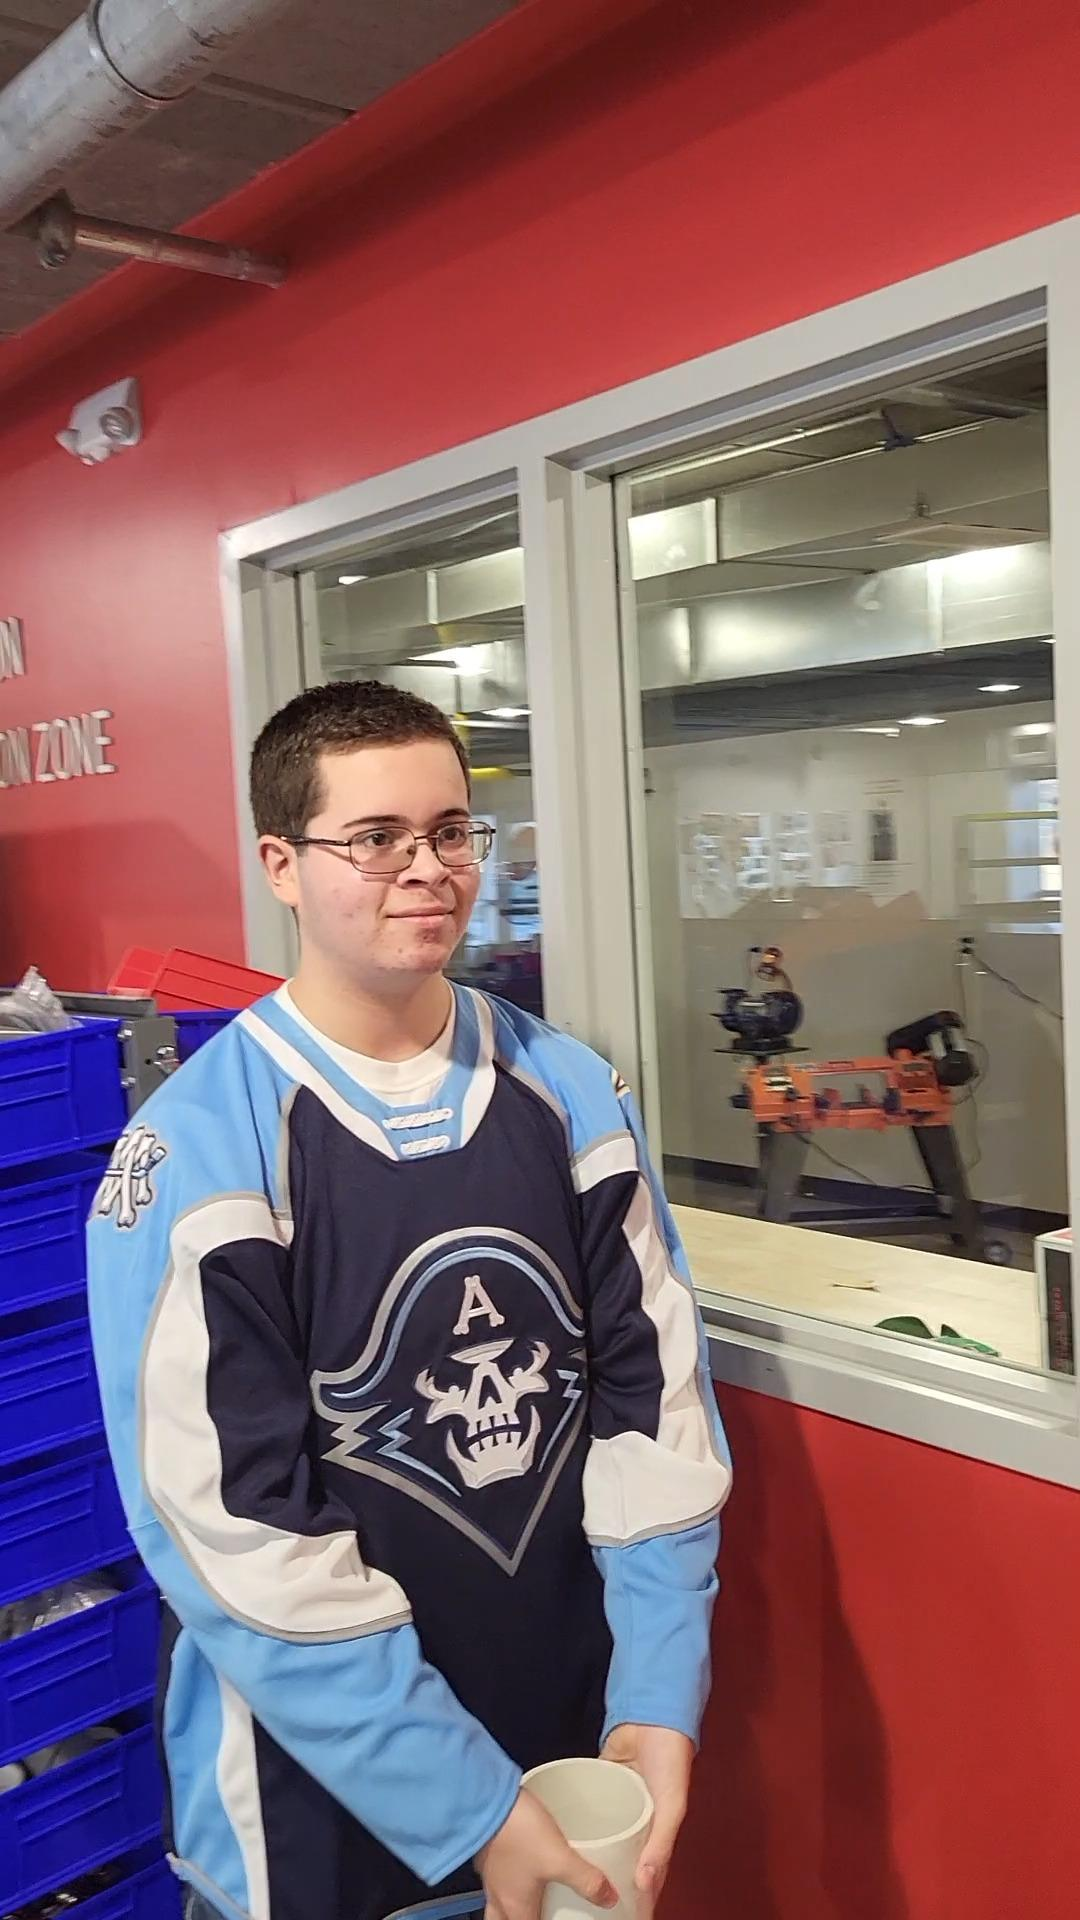coral: (506, 1741, 663, 1920)
